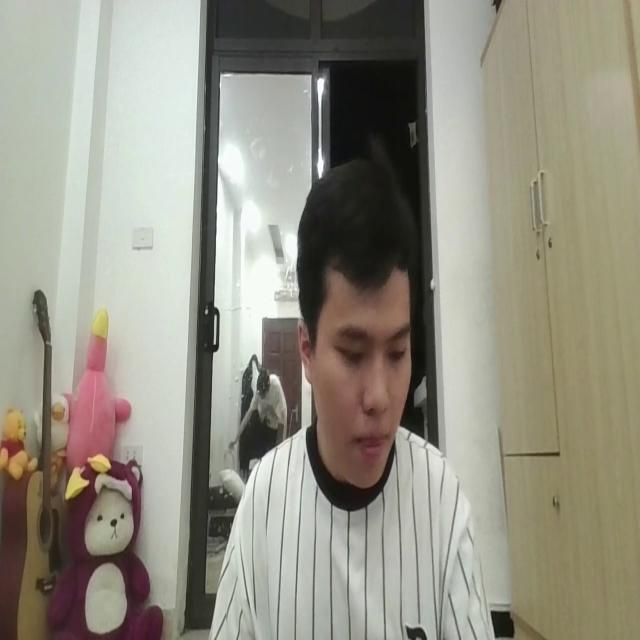student: (208, 148, 494, 640)
